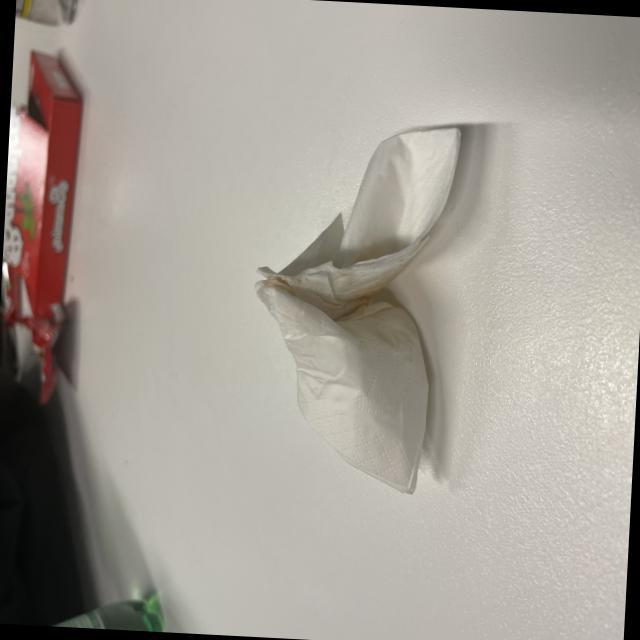organic waste: (235, 110, 464, 498)
